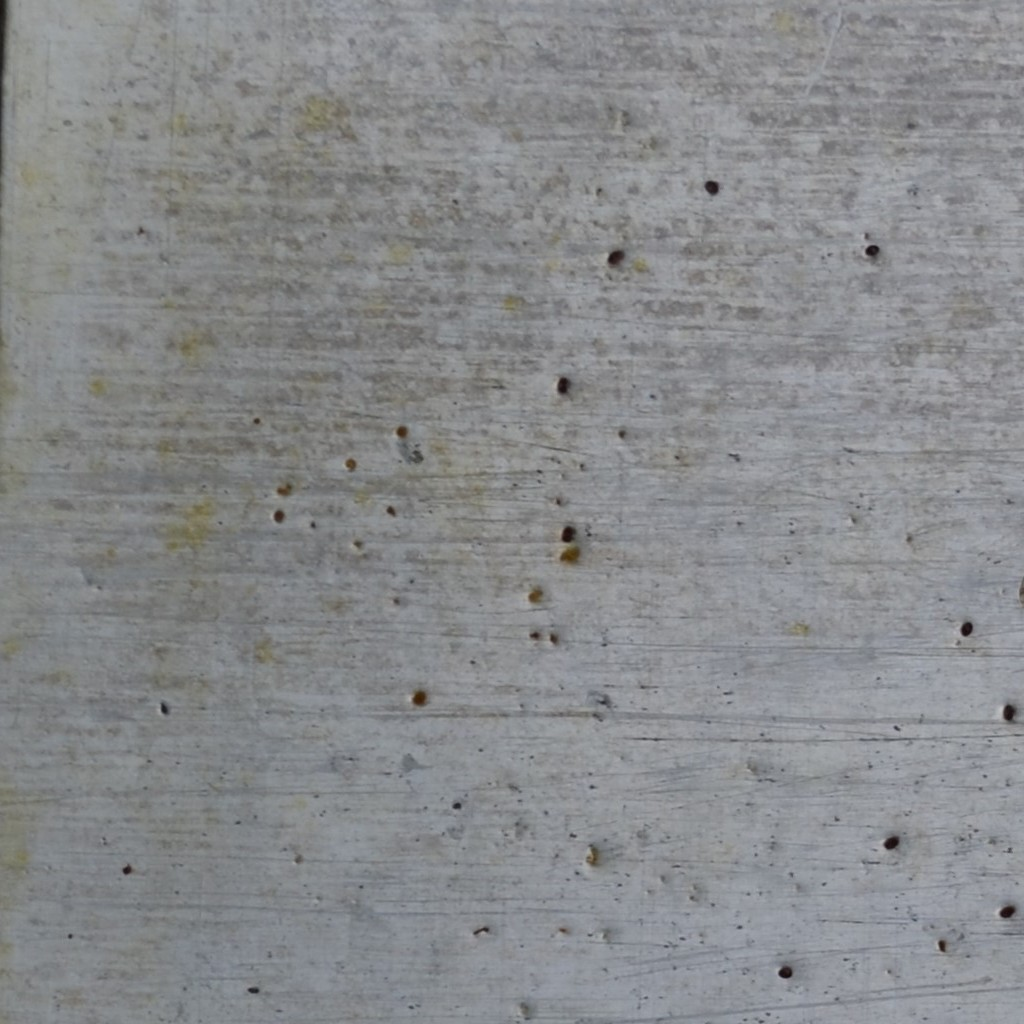varroa: (607, 243, 626, 269), (881, 832, 900, 856), (554, 373, 570, 400), (861, 241, 881, 262), (558, 522, 576, 542), (1001, 701, 1017, 723), (703, 177, 720, 197), (957, 620, 974, 639), (775, 963, 793, 980), (999, 902, 1015, 920)
